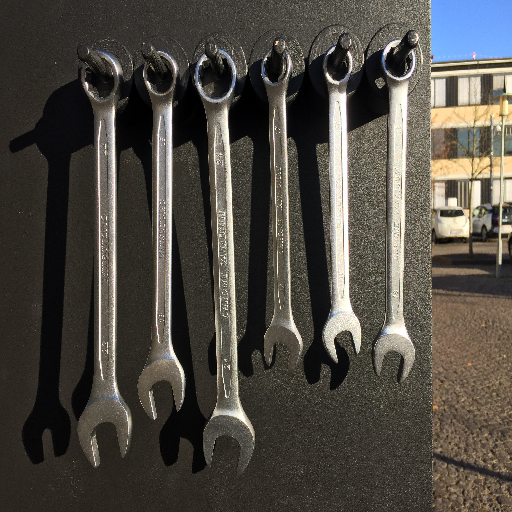bottom: (75, 402, 135, 470), (197, 416, 260, 479), (135, 359, 190, 424), (371, 326, 418, 383), (317, 312, 364, 365), (260, 326, 306, 374)
top: (74, 48, 129, 105), (193, 49, 238, 105), (138, 49, 180, 99), (256, 46, 296, 91), (380, 37, 416, 83), (320, 44, 356, 88)
